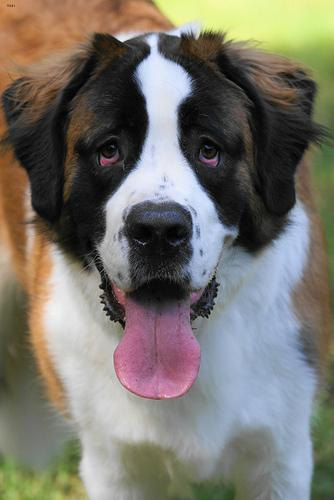dog-saint_bernard: (0, 31, 315, 397)
